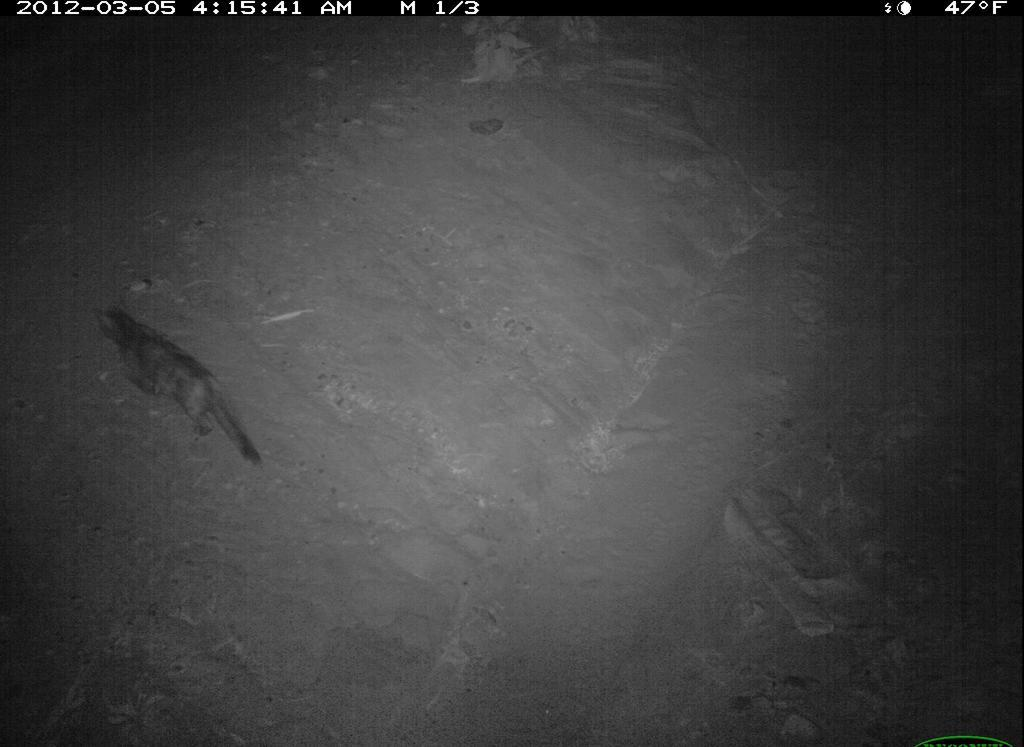cat: (89, 295, 271, 478)
